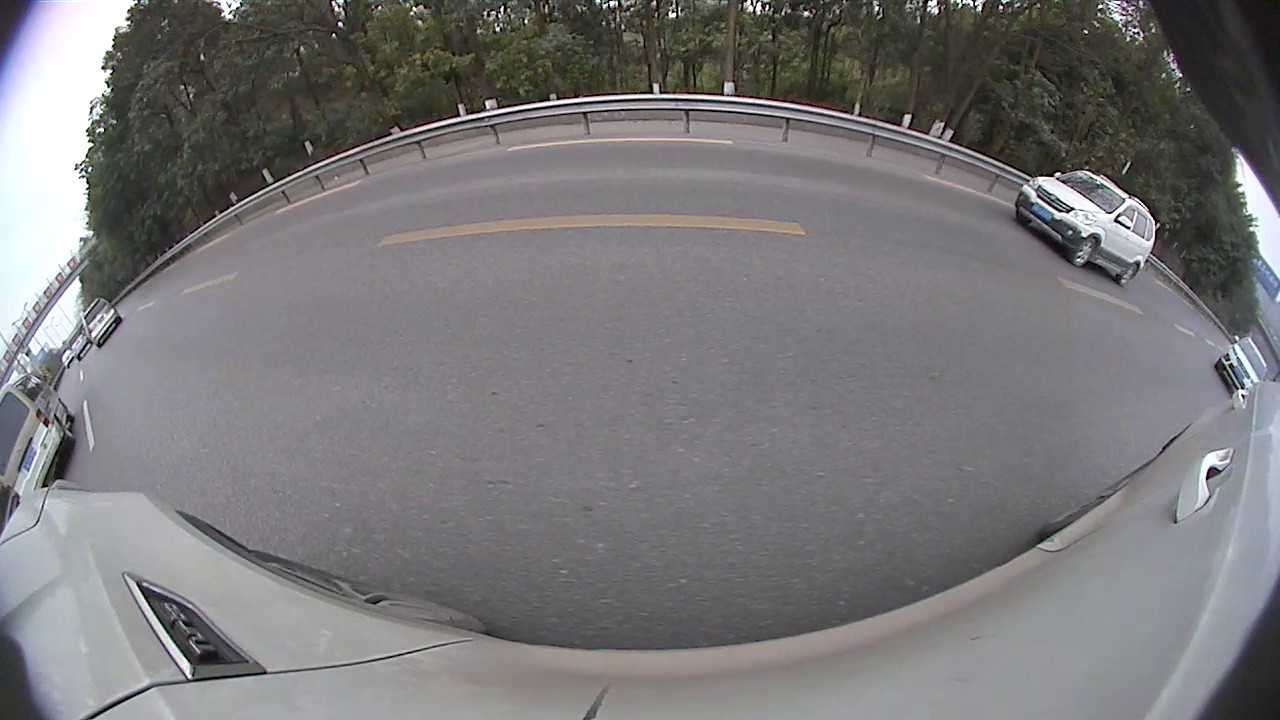car: (1014, 167, 1158, 288), (0, 372, 78, 500), (1213, 333, 1270, 394), (80, 295, 123, 350), (67, 330, 94, 362)
front: (1072, 237, 1096, 266)
rear: (1118, 263, 1137, 287)
